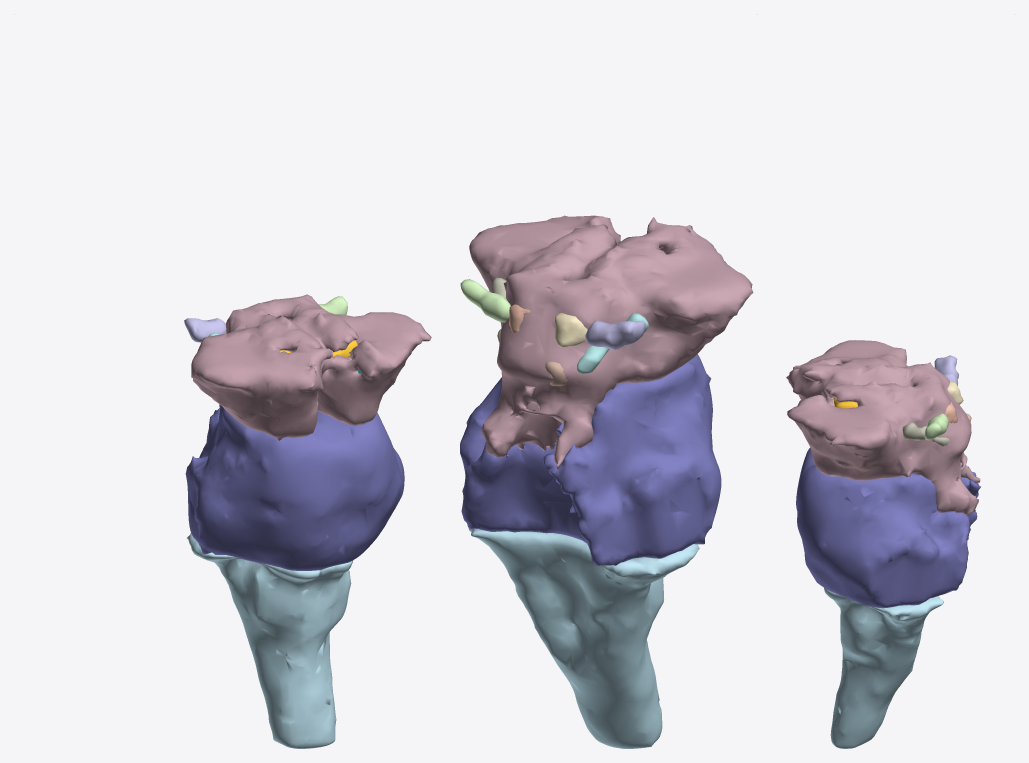
Rendered from brainstem.lod0.glb.
3 renders of one model, left to right at view 1: azimuth 30°, elevation 25°; view 2: azimuth 150°, elevation 25°; view 3: azimuth 270°, elevation 25°, orthographic. The views are drawn at different scales.
Visible parts, largest first — view 1: pons, part-of-midbrain, medulla-oblongata, brachia-of-superior-colliculus-r; view 2: part-of-midbrain, pons, medulla-oblongata, brachia-of-superior-colliculus-r, brachia-of-superior-colliculus-l, superior-colliculus-r, brachia-of-inferior-colliculus-r; view 3: part-of-midbrain, pons, medulla-oblongata, brachia-of-inferior-colliculus-l, brachia-of-superior-colliculus-r, brachia-of-superior-colliculus-l.
Part boxes in pixels (x1,y1,x2,y2): pons: (185, 405, 404, 570); part-of-midbrain: (191, 294, 431, 441); medulla-oblongata: (186, 533, 353, 748); brachia-of-superior-colliculus-r: (184, 318, 226, 342); part-of-midbrain: (469, 215, 753, 469); pons: (460, 354, 721, 565); medulla-oblongata: (468, 527, 699, 748); brachia-of-superior-colliculus-r: (585, 320, 645, 350); brachia-of-superior-colliculus-l: (460, 276, 510, 322); superior-colliculus-r: (555, 313, 587, 347); brachia-of-inferior-colliculus-r: (577, 313, 648, 373); part-of-midbrain: (786, 340, 980, 515); pons: (796, 447, 980, 608); medulla-oblongata: (824, 588, 943, 748); brachia-of-inferior-colliculus-l: (902, 422, 949, 446); brachia-of-superior-colliculus-r: (934, 355, 958, 386); brachia-of-superior-colliculus-l: (924, 413, 949, 440).
Bounding box in the file's own units: 0.0672 × 0.1438 × 0.0467.
